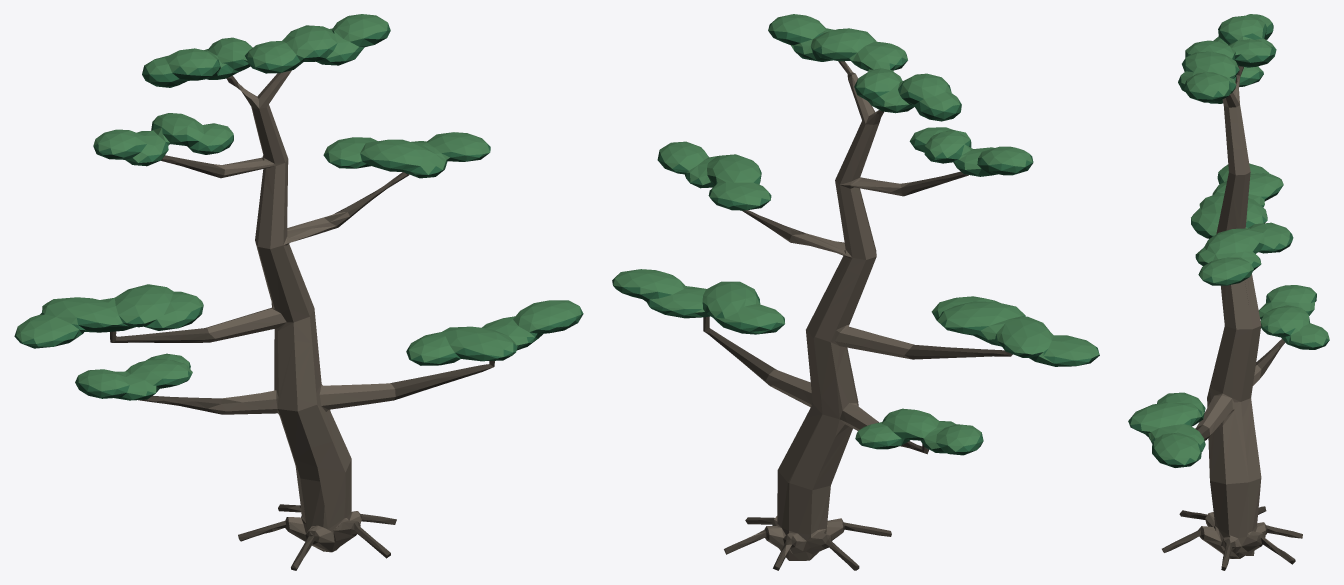
The model's file is ancient-pine-3011-lod0.glb.
3 renders of one model, left to right at view 1: azimuth 30°, elevation 25°; view 2: azimuth 150°, elevation 25°; view 3: azimuth 270°, elevation 25°, orthographic. The views are drawn at different scales.
Parts seen in each view (by area): view 1: n12.004, n8.004, n11.004, n9.004, n10.004; view 2: n12.004, n8.004, n11.004, n9.004, n10.004; view 3: n12.004, n8.004, n11.004, n9.004, n10.004.
Part boxes in pixels (x1,y1,x2,y2): n12.004: (16,14,581,395); n8.004: (190,70,395,552); n11.004: (14,23,583,399); n9.004: (110,75,494,570); n10.004: (14,38,583,400); n12.004: (613,14,1099,451); n8.004: (745,62,913,560); n11.004: (612,23,1099,453); n9.004: (703,61,1012,570); n10.004: (613,38,1099,455); n12.004: (1129,14,1329,464); n8.004: (1190,67,1280,558); n11.004: (1128,23,1329,465); n9.004: (1162,65,1302,570); n10.004: (1130,30,1329,467).
Size of the model in its own units: 5.59 by 5.42 by 2.03.
